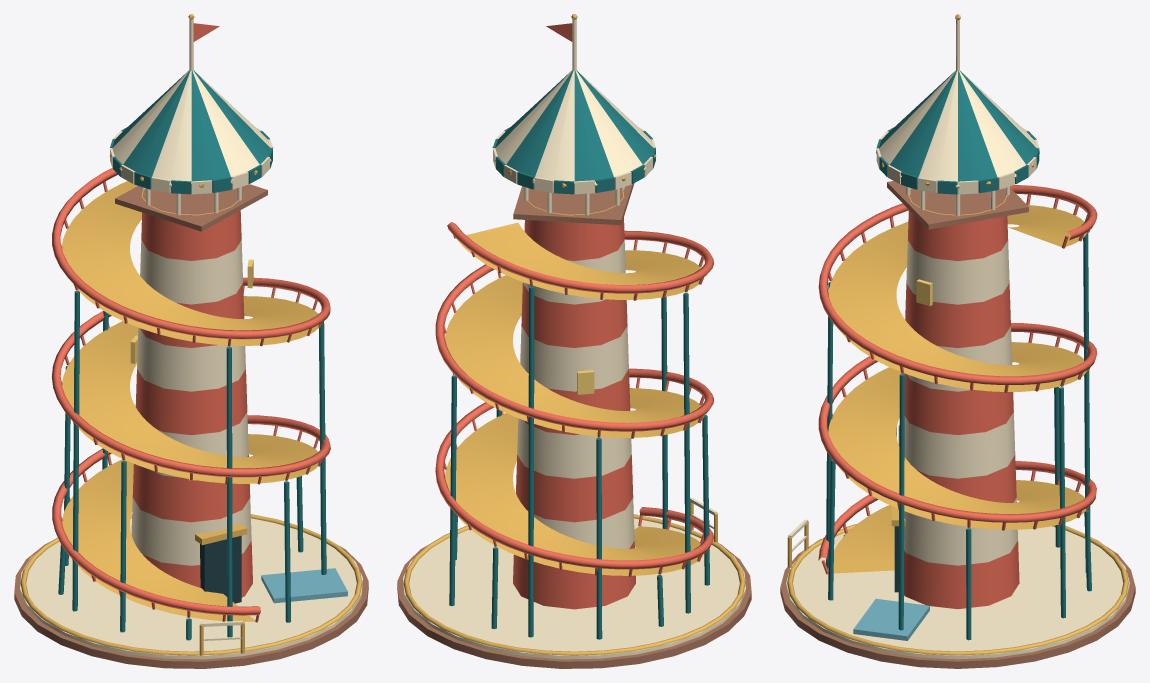
Rendered from ride_helter.glb.
3 renders of one model, left to right at view 1: azimuth 30°, elevation 25°; view 2: azimuth 150°, elevation 25°; view 3: azimuth 270°, elevation 25°, orthographic.
Parts seen in each view (by area): view 1: ride_helter; view 2: ride_helter; view 3: ride_helter.
Boxes of the visible parts, x1,y1,x2,y2 form: ride_helter: (14, 14, 368, 668); ride_helter: (397, 14, 751, 668); ride_helter: (780, 14, 1135, 668).
Bounding box in the file's own units: 7.5 × 13.5 × 7.5.
